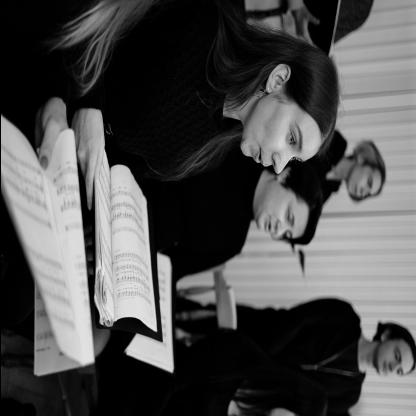Eye: (286, 128, 296, 145), (284, 207, 292, 224), (393, 349, 398, 361), (290, 156, 298, 161), (282, 231, 288, 237), (366, 178, 370, 186), (396, 368, 400, 374), (366, 194, 370, 196)
Mouth: (253, 147, 263, 165), (264, 216, 272, 233), (382, 360, 387, 376), (352, 185, 358, 197)
Nose: (271, 152, 291, 174), (274, 221, 287, 236), (388, 362, 396, 374), (359, 188, 367, 194)
